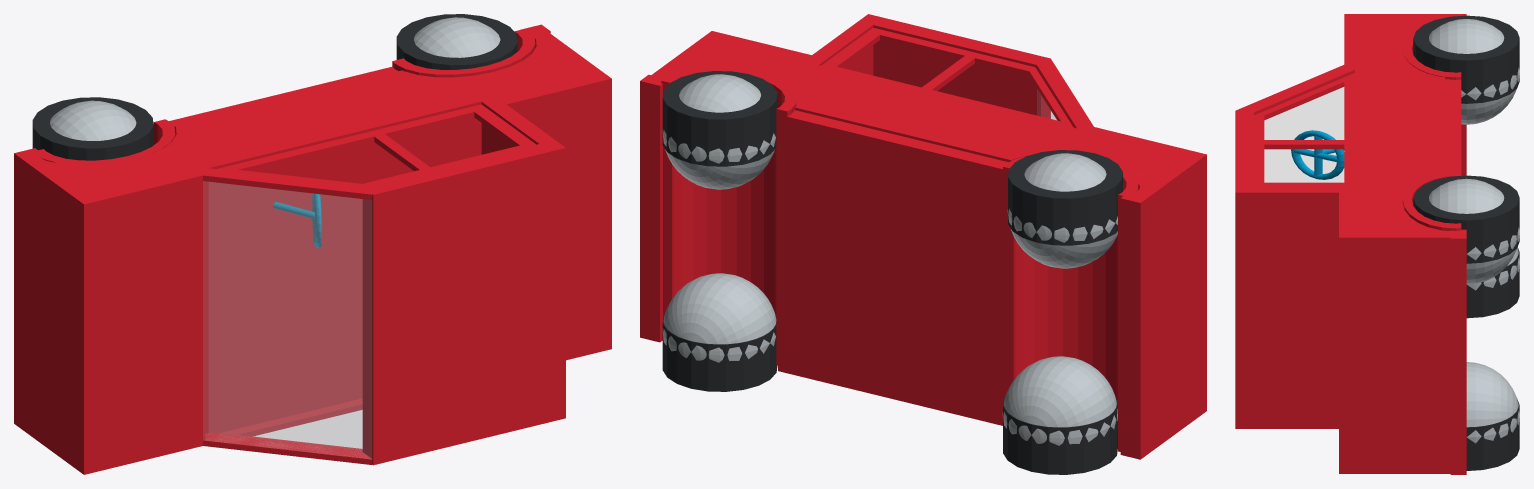
File: tinker.obj
The picture shows the model from 3 angles, left to right: view 1: azimuth 30°, elevation 25°; view 2: azimuth 150°, elevation 25°; view 3: azimuth 270°, elevation 25°; orthographic projection. The views are drawn at different scales.
Parts seen in each view (by area): view 1: obj_14, obj_13, obj_0, obj_1, obj_2, obj_11, obj_17, obj_10, obj_18, obj_19, obj_7, obj_24 (+8 smaller); view 2: obj_4, obj_14, obj_5, obj_2, obj_6, obj_13, obj_3, obj_23, obj_8, obj_19, obj_18, obj_9 (+10 smaller); view 3: obj_10, obj_12, obj_14, obj_13, obj_18, obj_0, obj_9, obj_19, obj_17, obj_24, obj_7, obj_8 (+12 smaller).
Boxes of the visible parts, bbox=[...] form: obj_14: bbox=[45, 38, 586, 433]; obj_13: bbox=[362, 140, 565, 465]; obj_0: bbox=[203, 181, 371, 459]; obj_1: bbox=[91, 168, 205, 470]; obj_2: bbox=[23, 156, 99, 474]; obj_11: bbox=[481, 76, 595, 360]; obj_17: bbox=[217, 104, 535, 450]; obj_10: bbox=[533, 32, 611, 352]; obj_18: bbox=[32, 97, 153, 160]; obj_19: bbox=[396, 14, 517, 69]; obj_7: bbox=[414, 17, 500, 57]; obj_24: bbox=[50, 100, 136, 140]; obj_4: bbox=[778, 110, 1008, 425]; obj_14: bbox=[674, 41, 1182, 189]; obj_5: bbox=[661, 68, 796, 367]; obj_2: bbox=[1135, 151, 1206, 452]; obj_6: bbox=[1003, 156, 1138, 451]; obj_13: bbox=[858, 14, 1050, 118]; obj_3: bbox=[1120, 192, 1149, 459]; obj_23: bbox=[1002, 356, 1117, 445]; obj_8: bbox=[662, 273, 776, 362]; obj_19: bbox=[662, 71, 777, 166]; obj_18: bbox=[1008, 150, 1122, 245]; obj_9: bbox=[640, 74, 662, 342]; obj_10: bbox=[1339, 231, 1450, 473]; obj_12: bbox=[1254, 186, 1338, 428]; obj_14: bbox=[1355, 20, 1445, 230]; obj_13: bbox=[1235, 110, 1253, 428]; obj_18: bbox=[1413, 15, 1519, 103]; obj_0: bbox=[1264, 87, 1343, 182]; obj_9: bbox=[1450, 229, 1466, 474]; obj_19: bbox=[1413, 175, 1519, 263]; obj_17: bbox=[1254, 73, 1354, 185]; obj_24: bbox=[1429, 19, 1519, 124]; obj_7: bbox=[1429, 178, 1519, 284]; obj_8: bbox=[1466, 362, 1519, 443].
Size of the model in its own units: 100 by 59 by 53.5.
